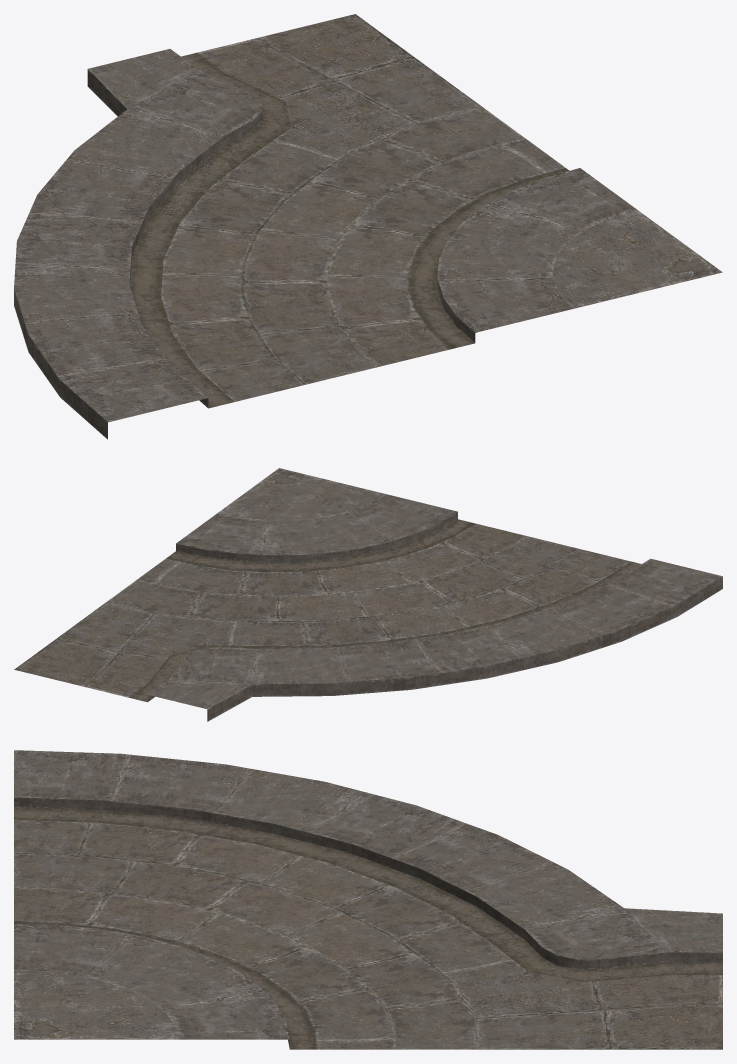
File: Roundabout_1road.fbx
3 renders of one model, top to bottom at view 1: azimuth 30°, elevation 25°; view 2: azimuth 150°, elevation 25°; view 3: azimuth 270°, elevation 25°, orthographic. The views are drawn at different scales.
Visible parts, largest first — view 1: Trim_Roundabout_1road; view 2: Trim_Roundabout_1road; view 3: Trim_Roundabout_1road.
Part boxes in pixels (<box>): Trim_Roundabout_1road: <box>14,14,722,439</box>; Trim_Roundabout_1road: <box>14,468,722,721</box>; Trim_Roundabout_1road: <box>14,750,722,1049</box>.
Size of the model in its own units: 918 by 25 by 950.
